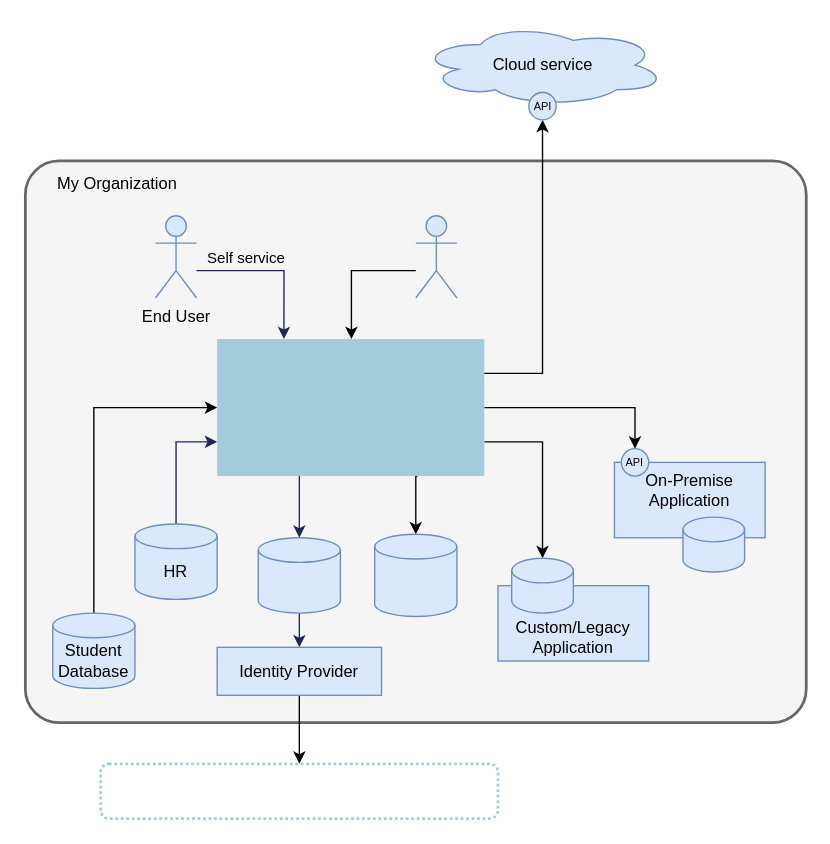
Some shapes in this 830 by 844 pixel diagram are drawn without their labels. Each missing label, with the centre of its shape:
Active Directory: point (415, 574)
Administrator: point (435, 256)
Identity Federation: point (299, 790)
LDAP: point (298, 574)
midPoint: point (350, 406)
